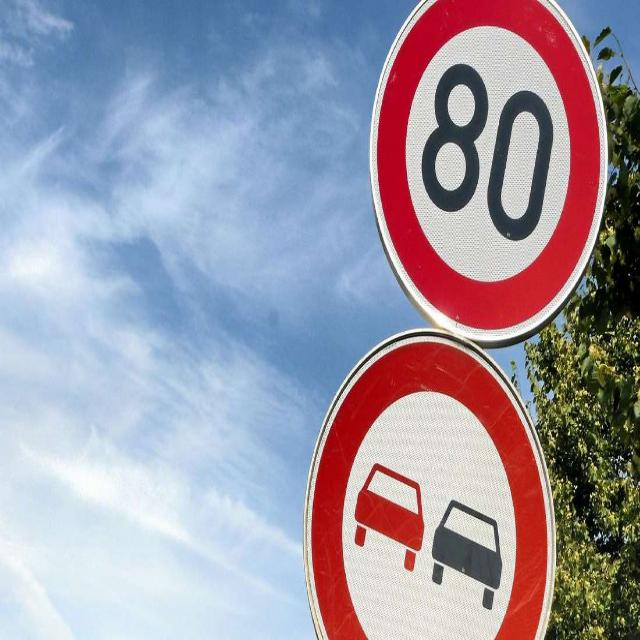no overtaking: (299, 323, 559, 640)
